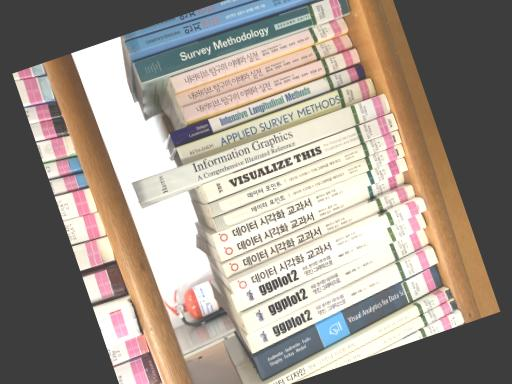book-spine: (131, 92, 389, 203), (254, 263, 443, 378), (246, 246, 438, 352), (240, 227, 428, 332), (230, 212, 426, 311), (230, 196, 426, 294), (265, 286, 453, 384), (133, 0, 350, 82), (201, 111, 398, 201), (211, 156, 407, 246), (222, 184, 415, 275), (175, 76, 375, 163), (208, 129, 401, 216), (213, 142, 404, 229), (217, 171, 403, 260), (169, 63, 364, 145), (293, 298, 458, 382), (170, 16, 347, 91), (180, 46, 359, 120), (175, 32, 352, 105), (124, 0, 294, 53), (122, 0, 246, 38), (376, 310, 464, 354)
